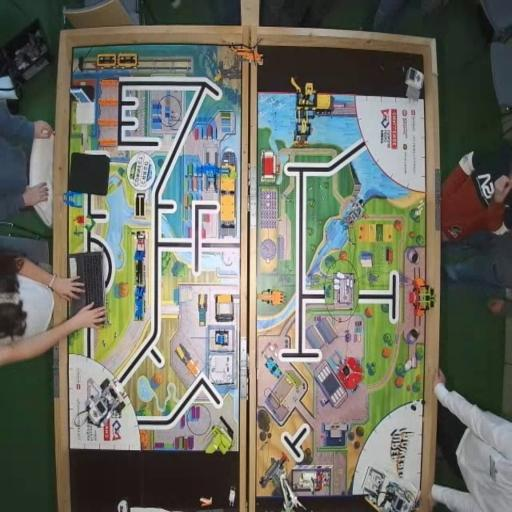lego_robot: (74, 375, 127, 430), (361, 465, 421, 512)
